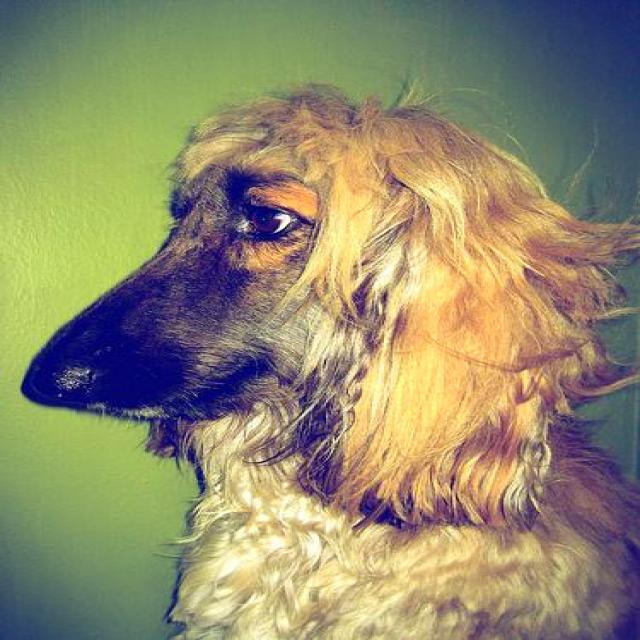afghan_hound: (21, 73, 636, 637)
